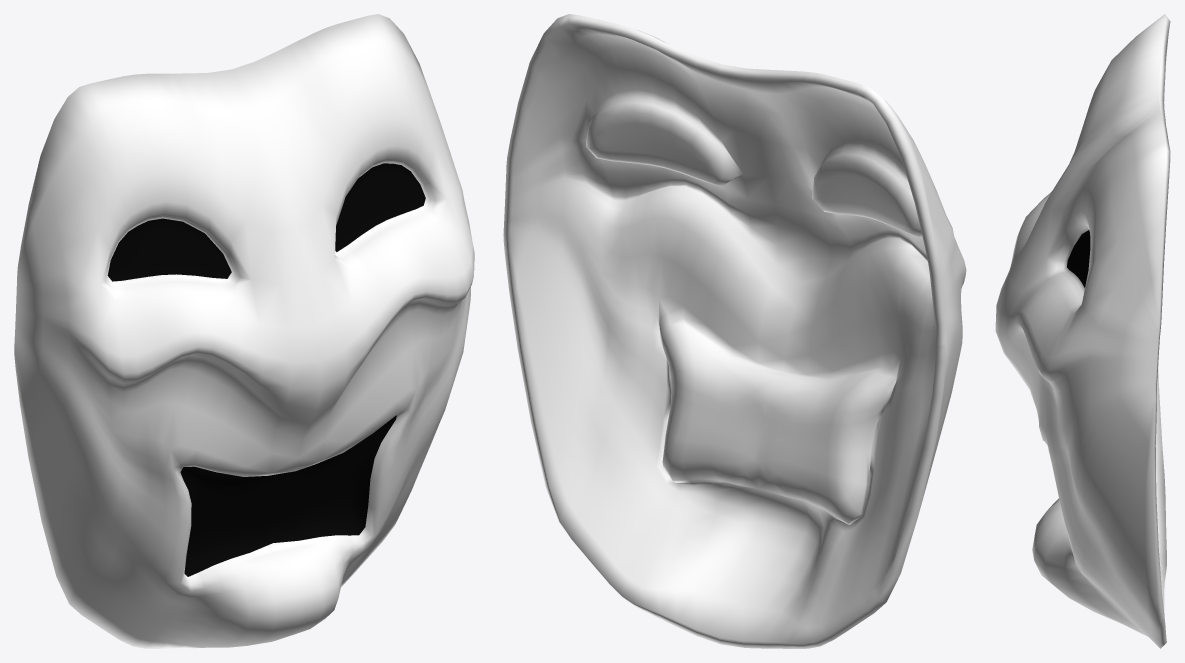
File: Comedy.obj
The picture shows the model from 3 angles, left to right: view 1: azimuth 30°, elevation 25°; view 2: azimuth 150°, elevation 25°; view 3: azimuth 270°, elevation 25°; orthographic projection. The views are drawn at different scales.
Parts seen in each view (by area): view 1: Plane.001; view 2: Plane.001; view 3: Plane.001.
Boxes of the visible parts, x1,y1,x2,y2 form: Plane.001: (14,14,474,648); Plane.001: (503,14,966,648); Plane.001: (995,14,1170,648).
Size of the model in its own units: 0.0662 by 0.0852 by 0.0248.
